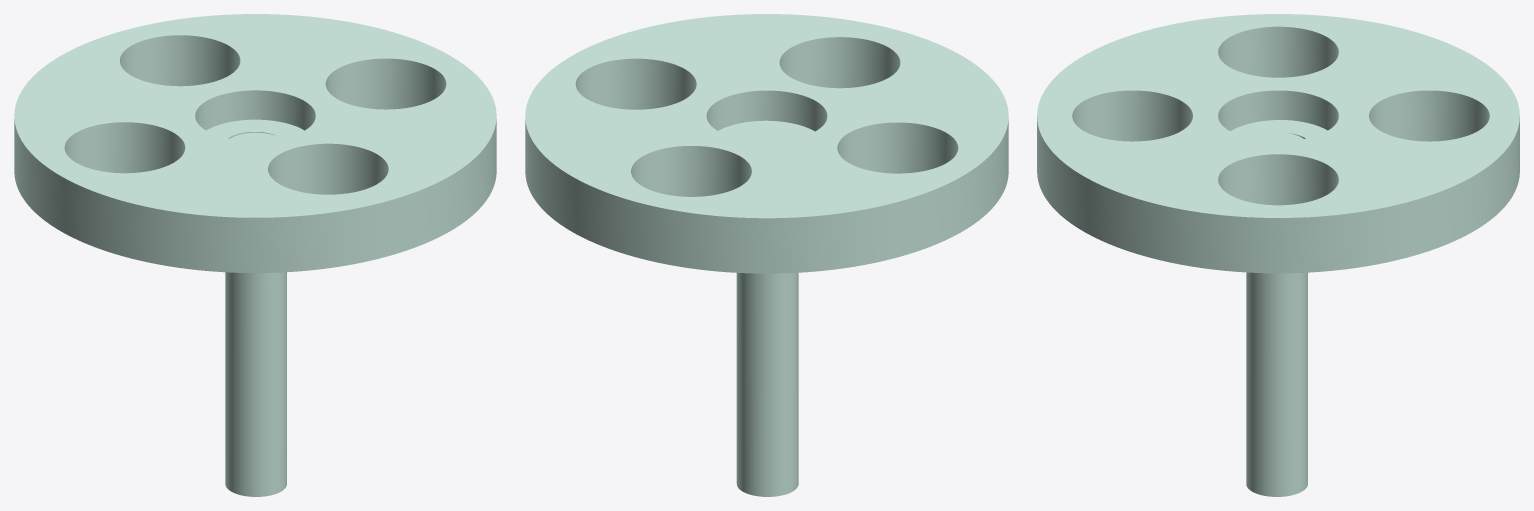
File: expected.gltf
3 renders of one model, left to right at view 1: azimuth 30°, elevation 25°; view 2: azimuth 150°, elevation 25°; view 3: azimuth 270°, elevation 25°, orthographic.
Visible parts, largest first — view 1: Renderer Node; view 2: Renderer Node; view 3: Renderer Node.
Boxes of the visible parts, <box> form: Renderer Node: <box>14,14,496,496</box>; Renderer Node: <box>525,14,1008,496</box>; Renderer Node: <box>1037,14,1519,496</box>.
Bounding box in the file's own units: 1.05 × 0.8828 × 1.05.
